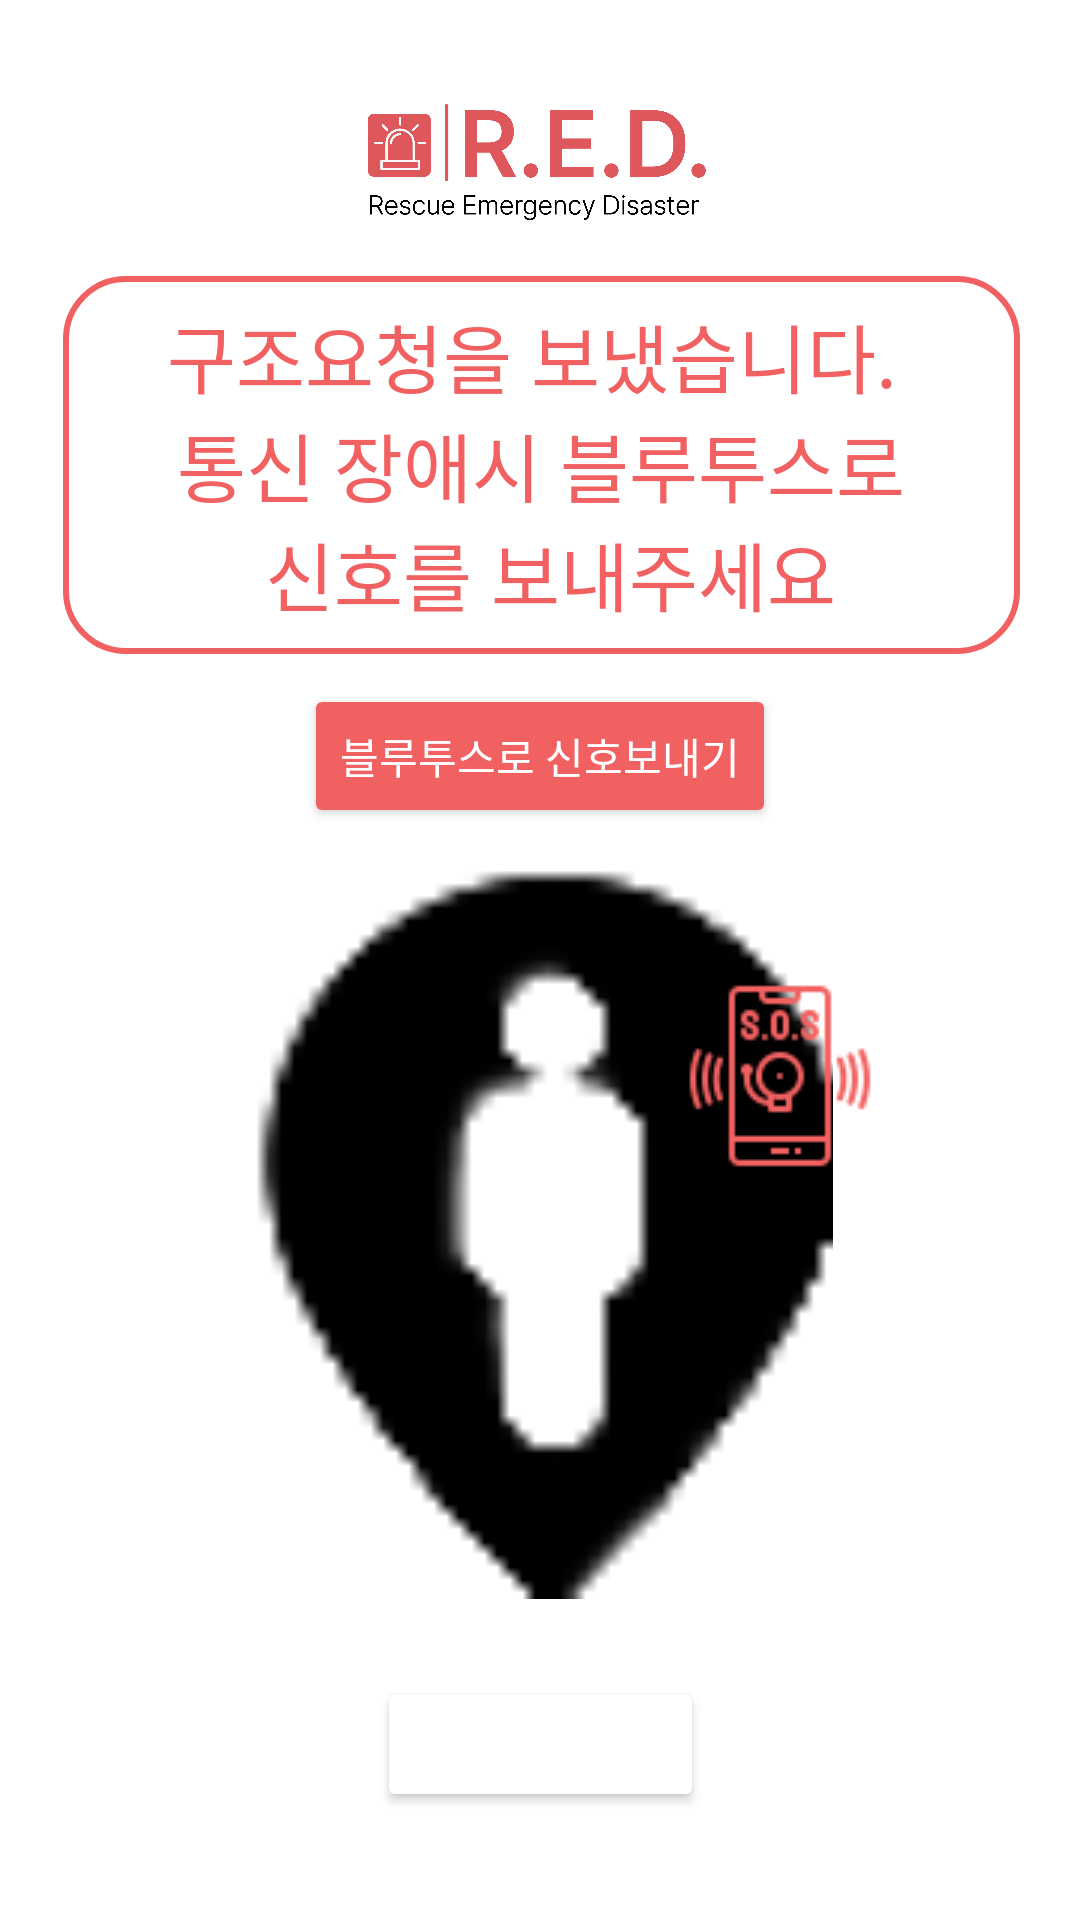

Point at icon controls on the screen. Image size 1080*1920, points as (x,y).
helpsos: (780,1076)
